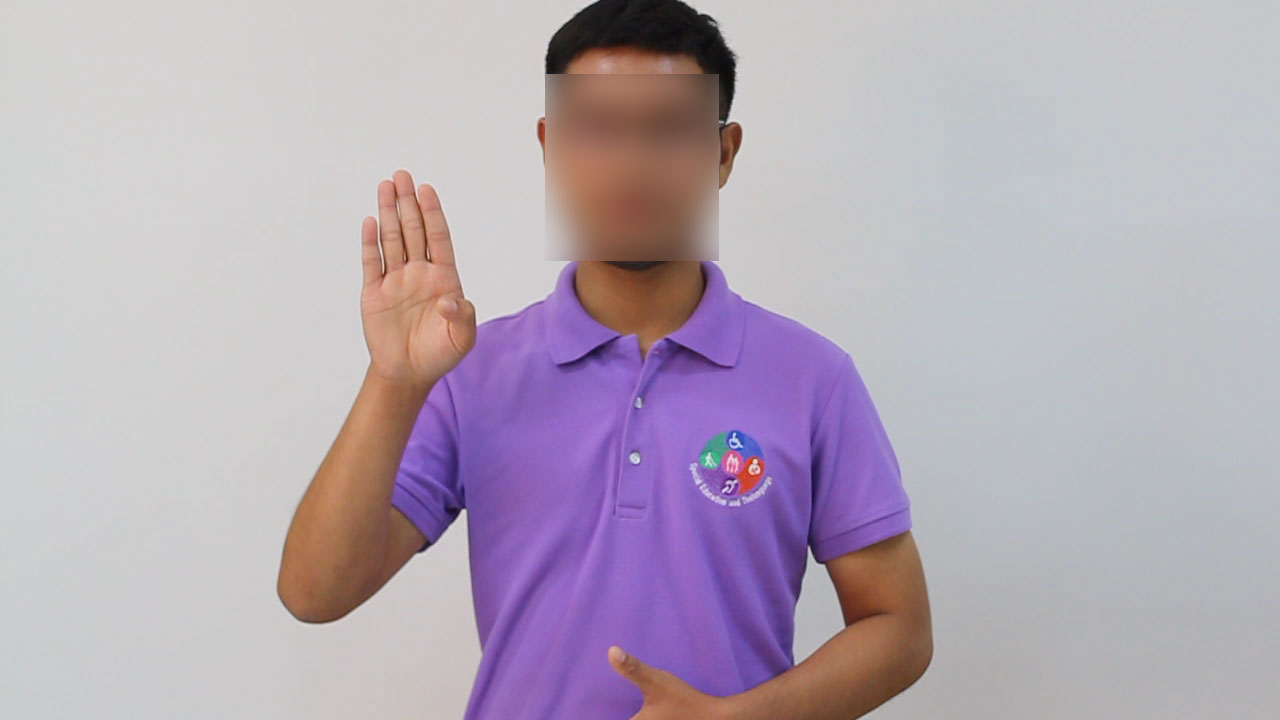bor: (350, 153, 491, 414)
